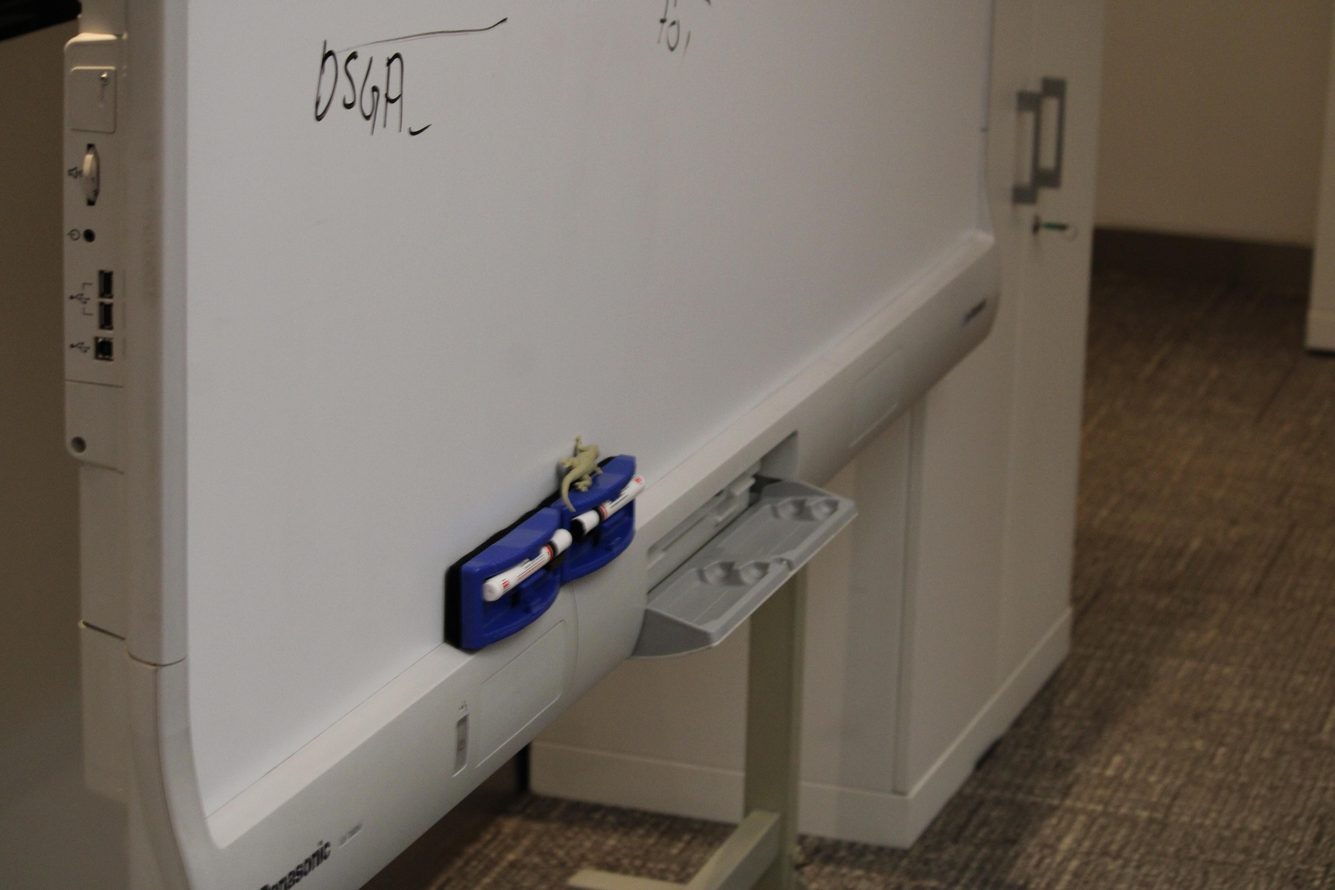lizard: (548, 421, 612, 511)
